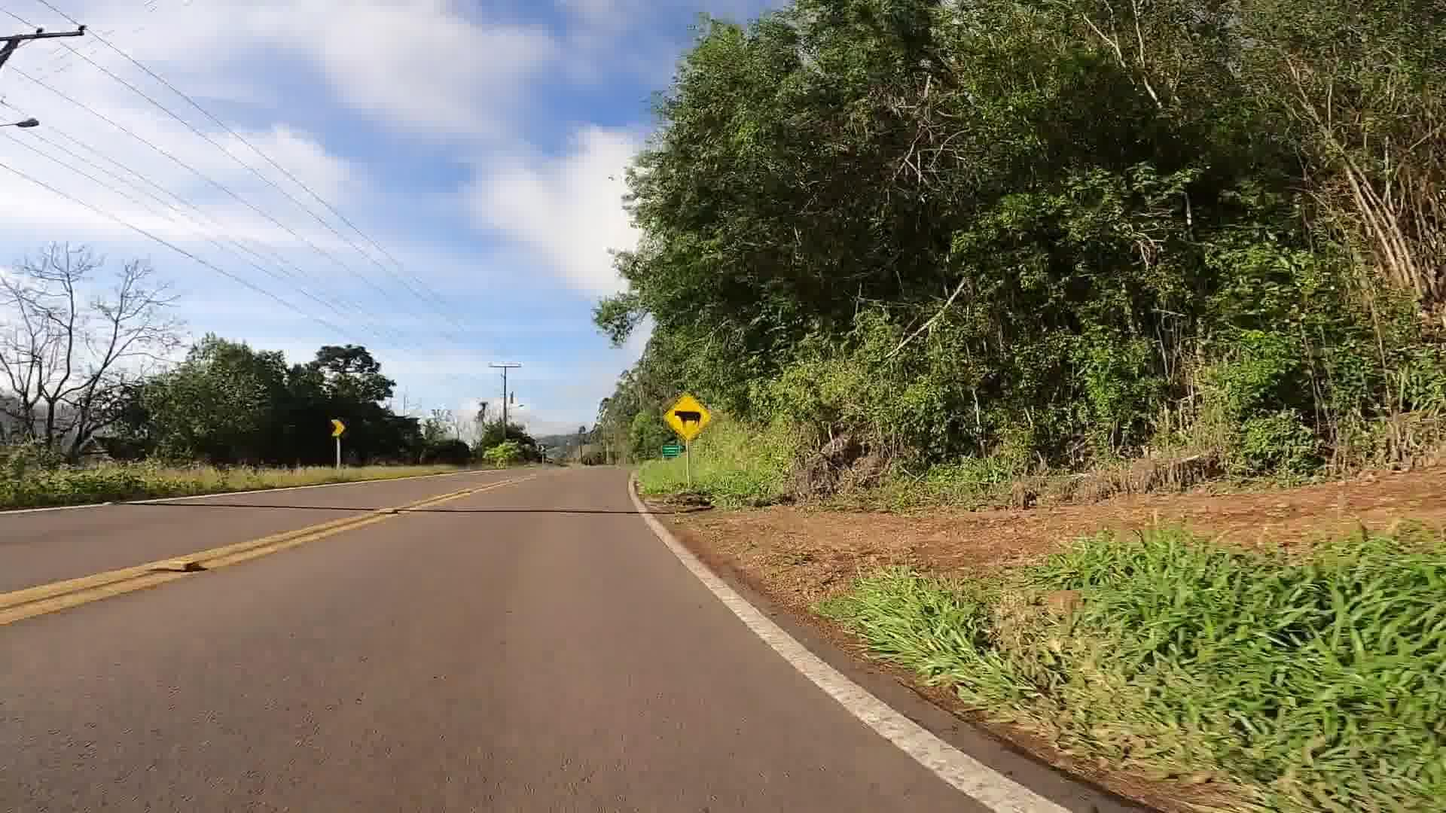A-35: (660, 393, 715, 446)
